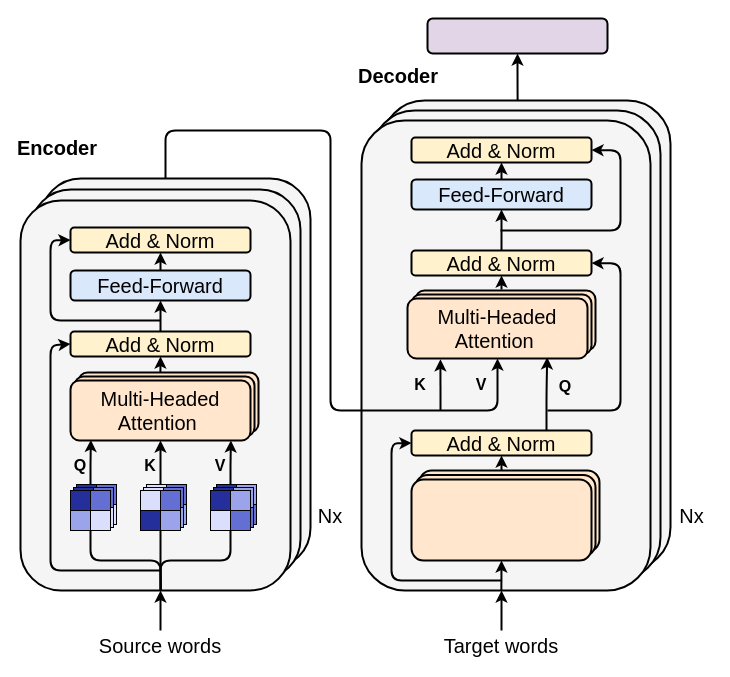
This 730x677 diagram has some shape labels left out. Here are the shapes that lost their labels. From the top down, the centre of each, then its label:
At pixel 517 35: "Prediction Layer".
At pixel 501 519: "Masked Multi-Headed Attention".
